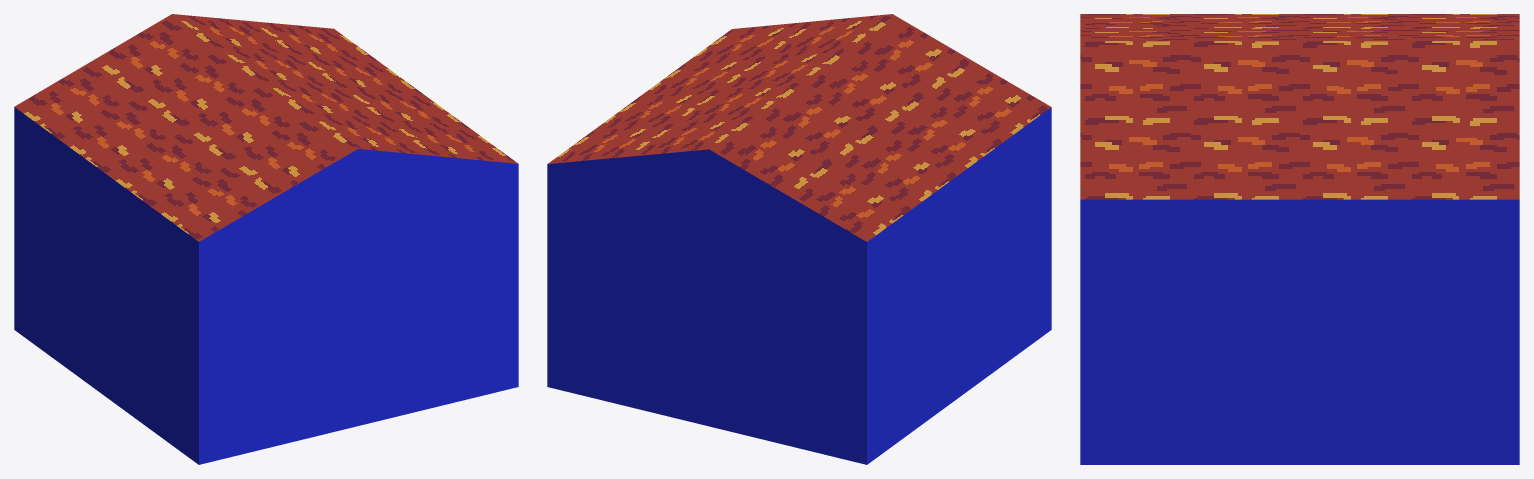
The model's file is Generic Building4.glb.
3 renders of one model, left to right at view 1: azimuth 30°, elevation 25°; view 2: azimuth 150°, elevation 25°; view 3: azimuth 270°, elevation 25°, orthographic. The views are drawn at different scales.
Visible parts, largest first — view 1: GenericBuilding4-col; view 2: GenericBuilding4-col; view 3: GenericBuilding4-col.
Boxes of the visible parts, left/top/right/bottom form: GenericBuilding4-col: left=14, top=14, right=518, bottom=464; GenericBuilding4-col: left=547, top=14, right=1051, bottom=464; GenericBuilding4-col: left=1080, top=14, right=1519, bottom=464.
Bounding box in the file's own units: 4.38 × 3.63 × 4.38.
Materials: 2 (1 with a texture image).
